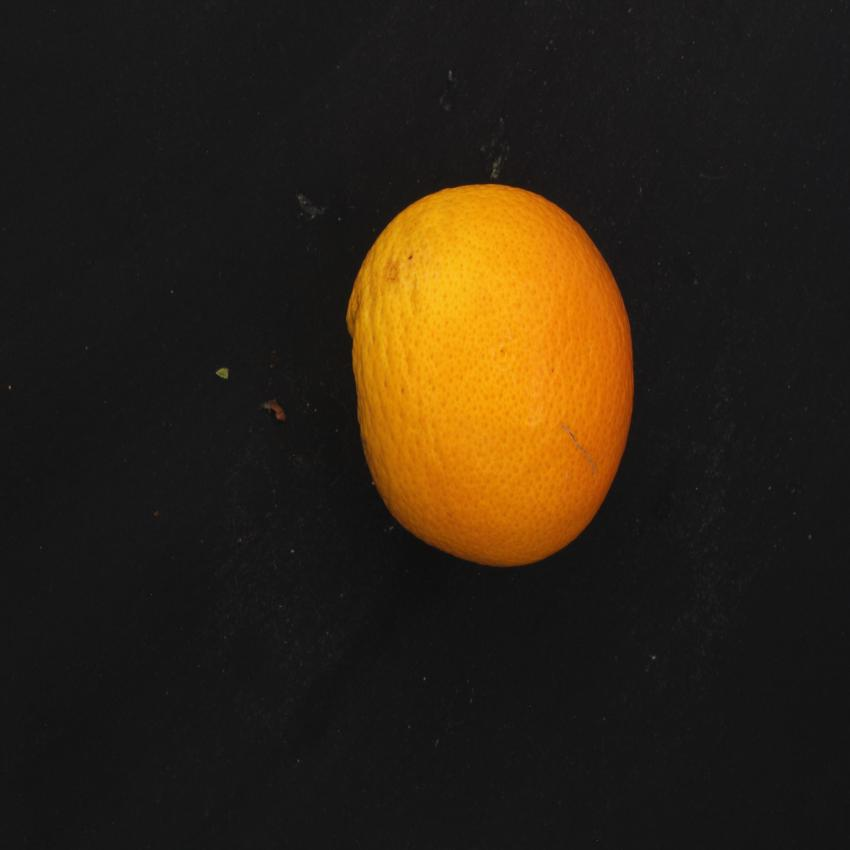Buen estado: (340, 172, 639, 582)
